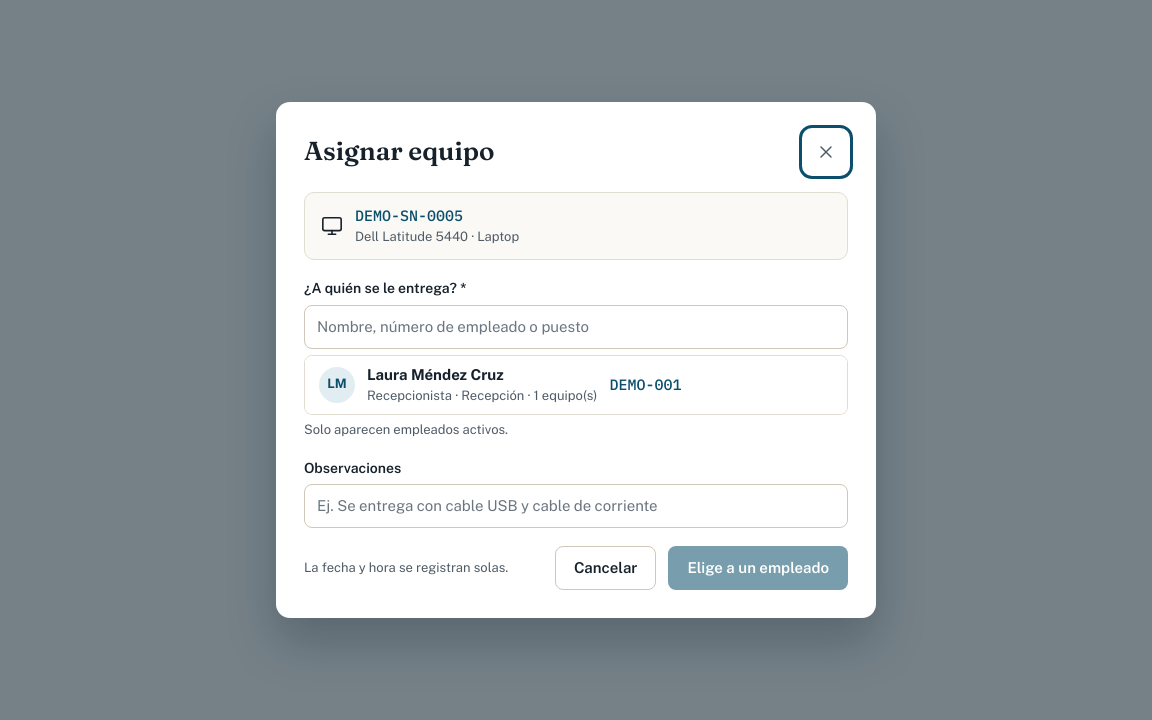
Test: DialogoAsignar (desde la ficha del equipo) › muestra el mensaje de la API si el equipo ya está asignado
The width and height of the screenshot is (1152, 720).
Click the button with class "opcion-persona".
click(337, 385)  # box [305,356,847,414]
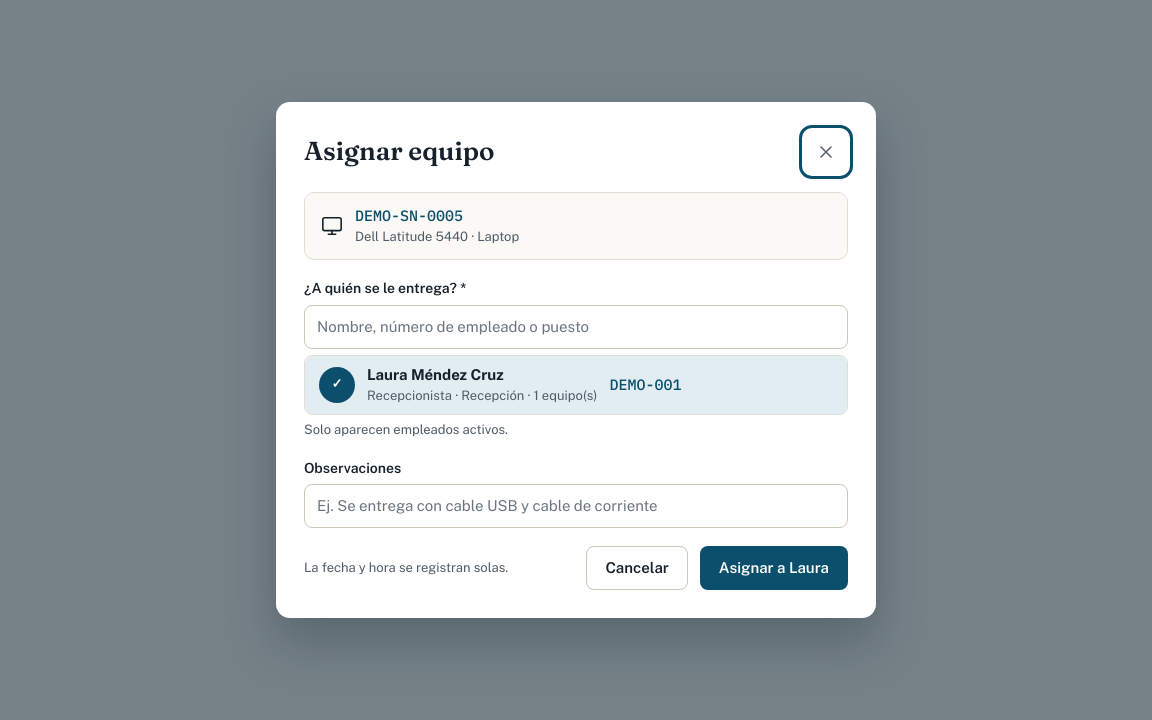
Submit the form, box [304,130,848,590]
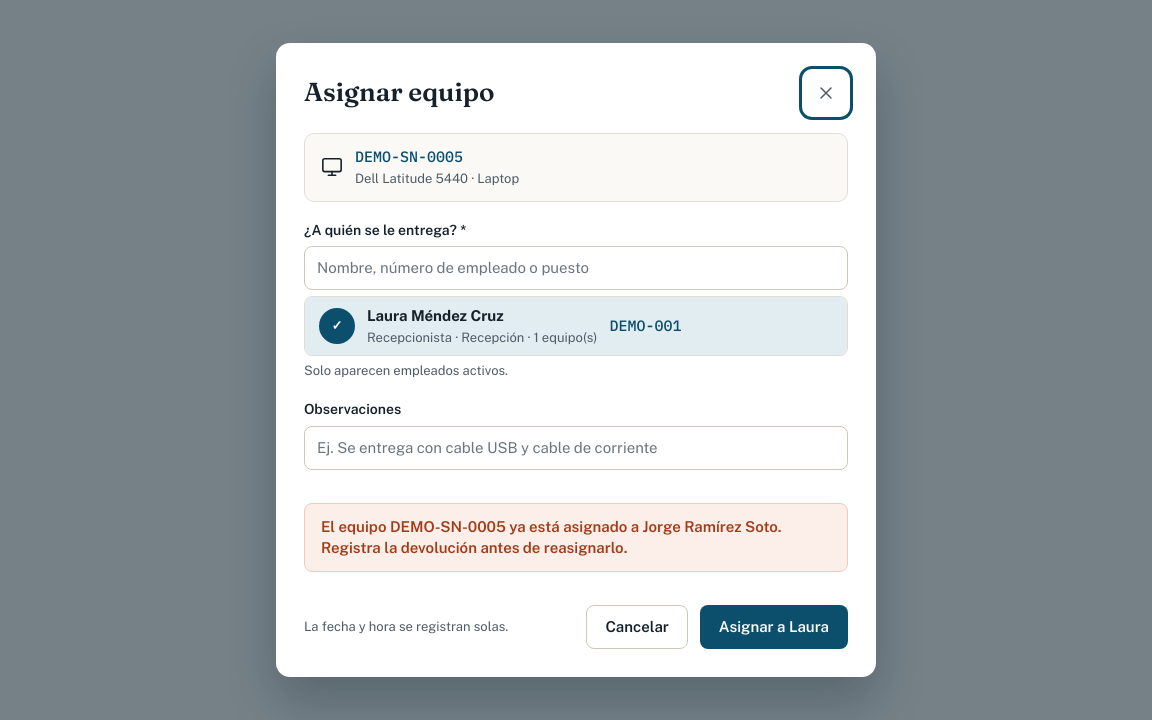
Now the message with class "aviso-error" shows "ya está asignado a Jorge Ramírez Soto", box [321,518,782,556]
